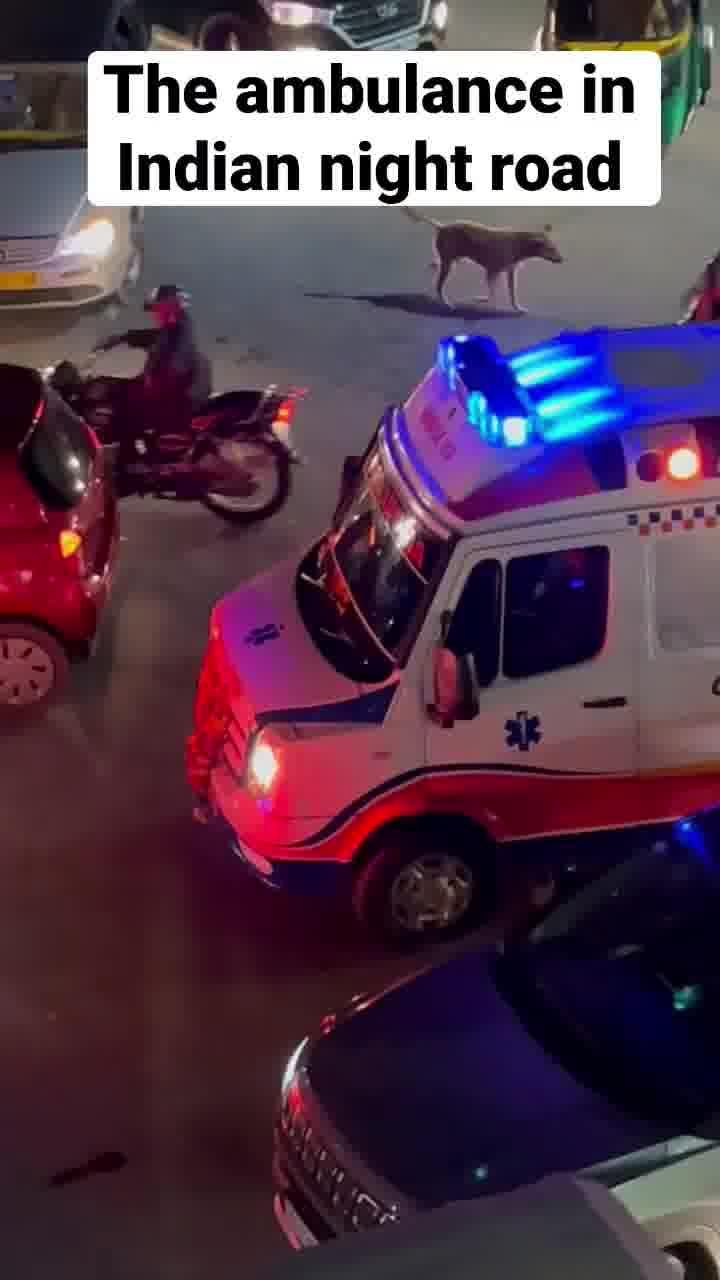AMBULANCE: (201, 321, 704, 884)
